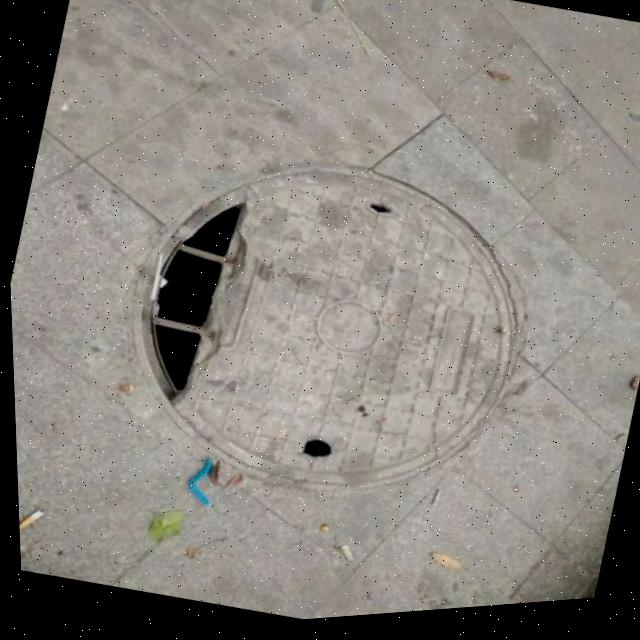manhole: (76, 102, 561, 553)
